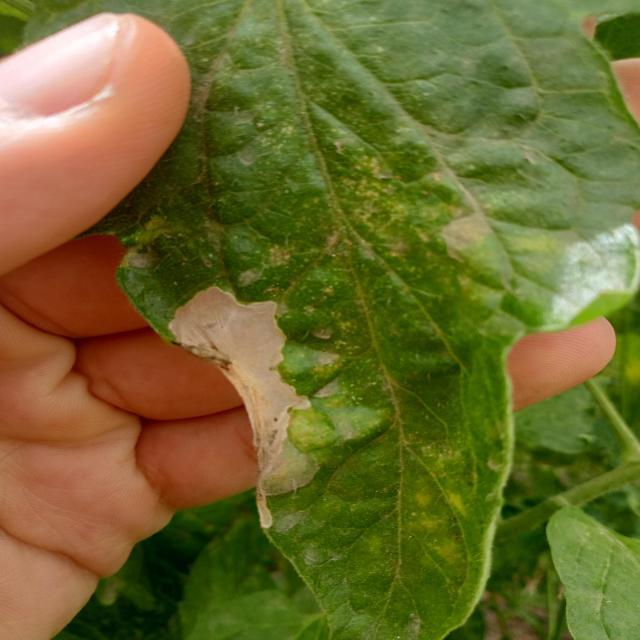Tuta absoluta: (161, 265, 360, 529)
